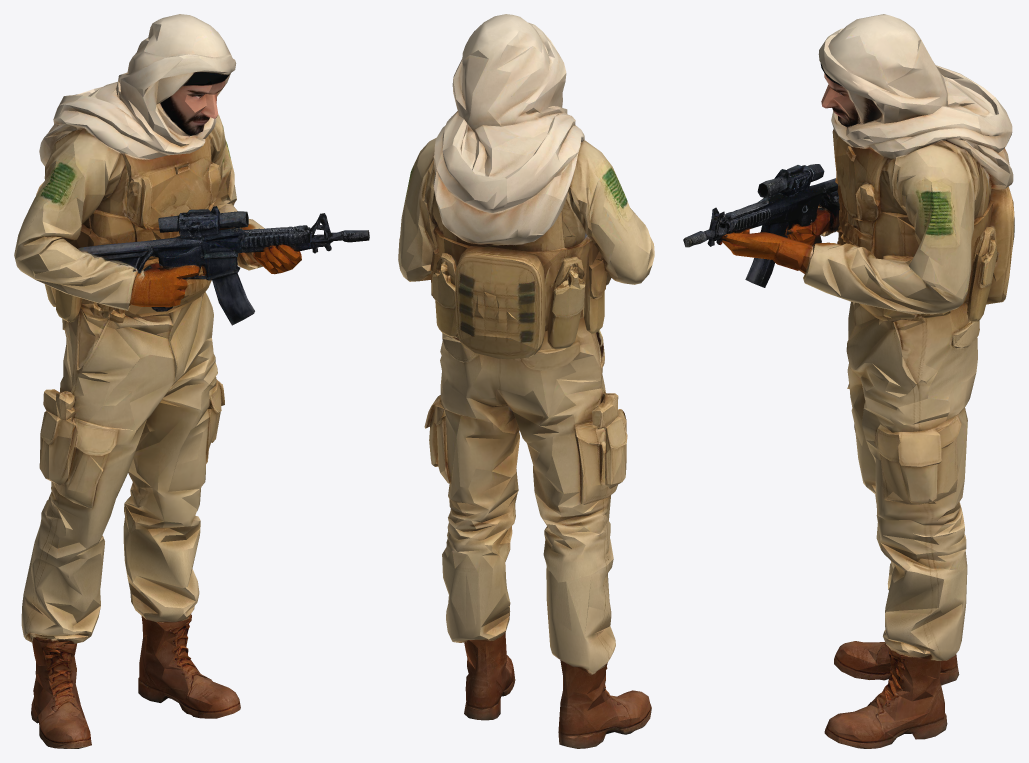
Rendered from source_2k.glb.
3 renders of one model, left to right at view 1: azimuth 30°, elevation 25°; view 2: azimuth 150°, elevation 25°; view 3: azimuth 270°, elevation 25°, orthographic. The views are drawn at different scales.
Parts seen in each view (by area): view 1: output_unwrapped; view 2: output_unwrapped; view 3: output_unwrapped.
Boxes of the visible parts, x1,y1,x2,y2 form: output_unwrapped: (14,14,369,748); output_unwrapped: (398,14,654,748); output_unwrapped: (683,14,1014,748).
Bounding box in the file's own units: 0.7243 × 1.9 × 0.8012.
Materials: 1 (1 with a texture image).
